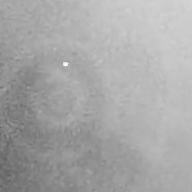Target: (61, 61, 69, 67)
